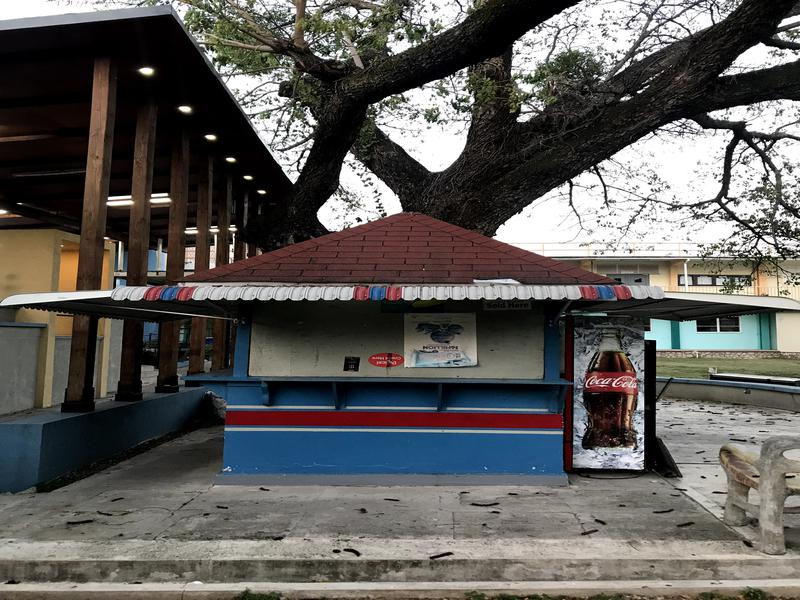18.0051667_-76.74944412_librarystall: (145, 201, 693, 516)
